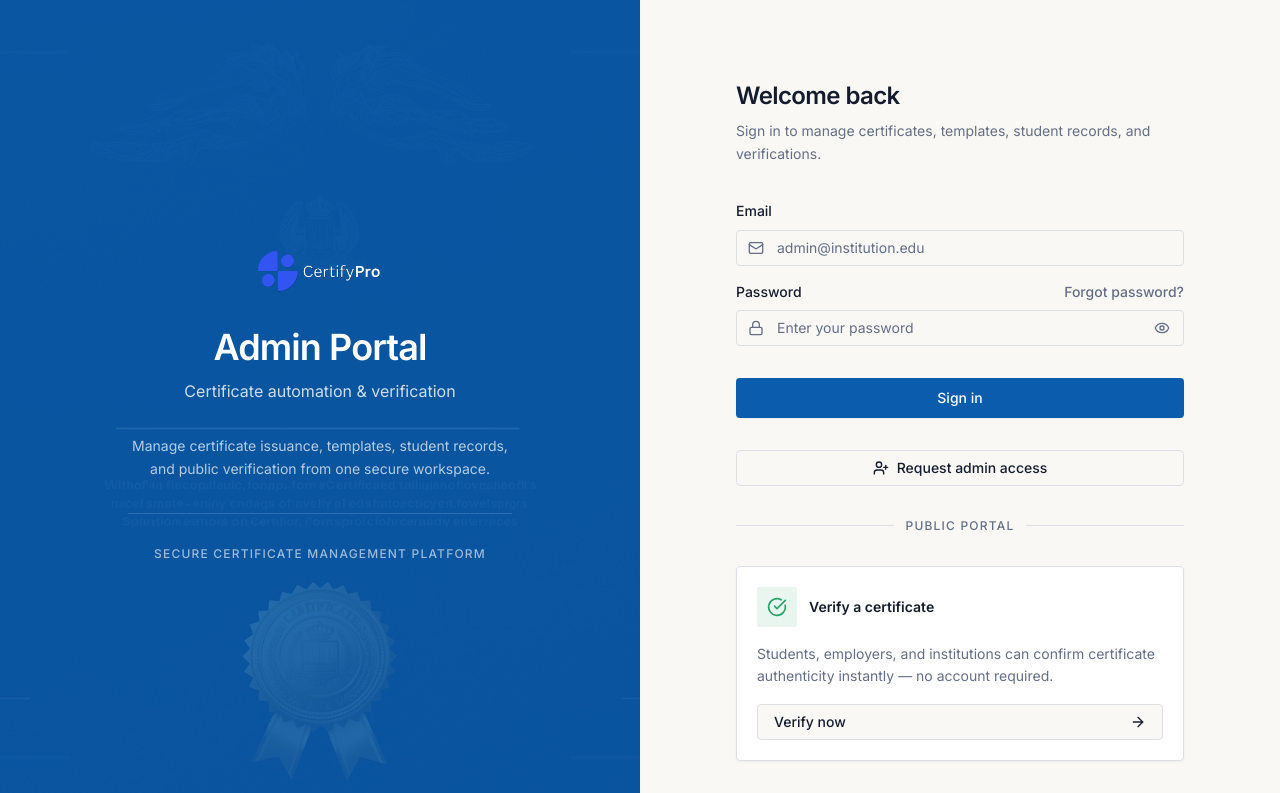
Scenario: Login captcha wiring › passes the token on submit and resets the widget after failure
In the field with placeholder "admin@institution.edu": {"x": 960, "y": 248} [736,230,1184,266], type "admin@x.edu"
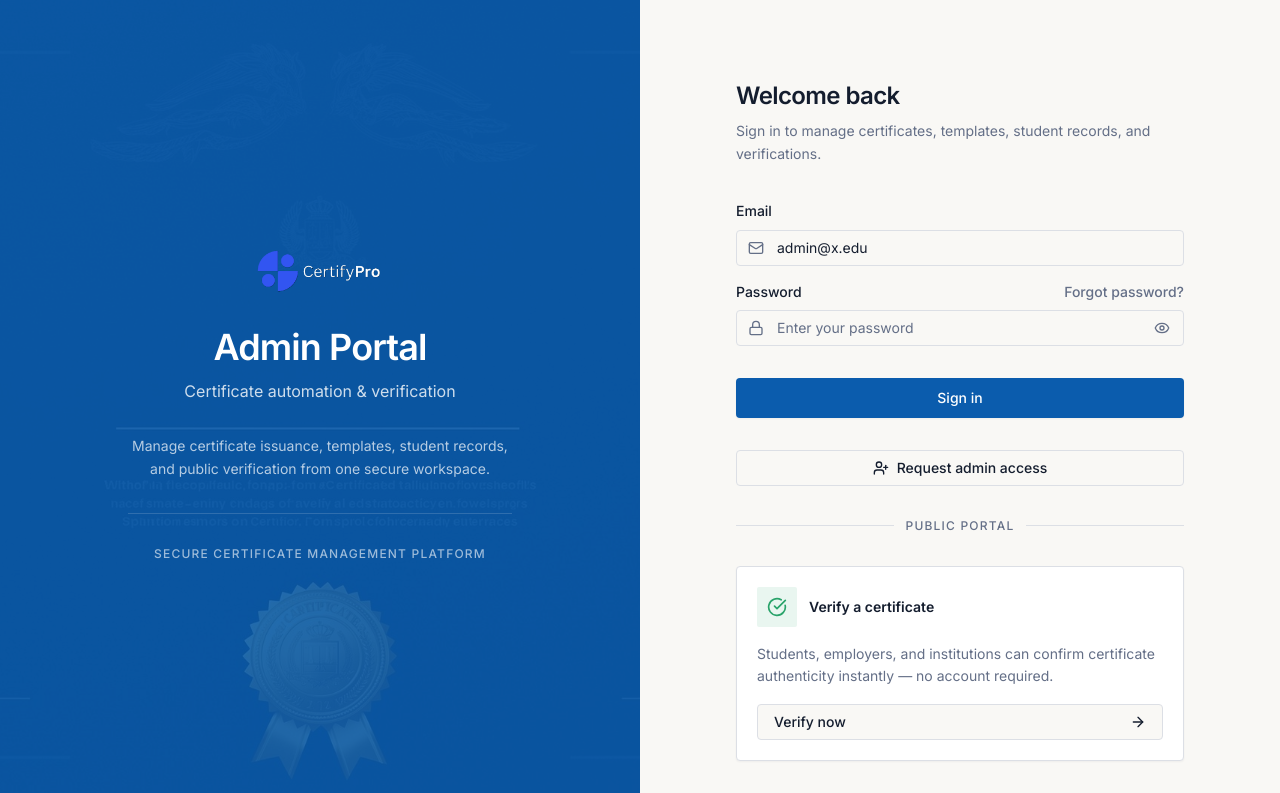
In the password field with placeholder "Enter your password": {"x": 960, "y": 328} [736,310,1184,346], type "wrong"
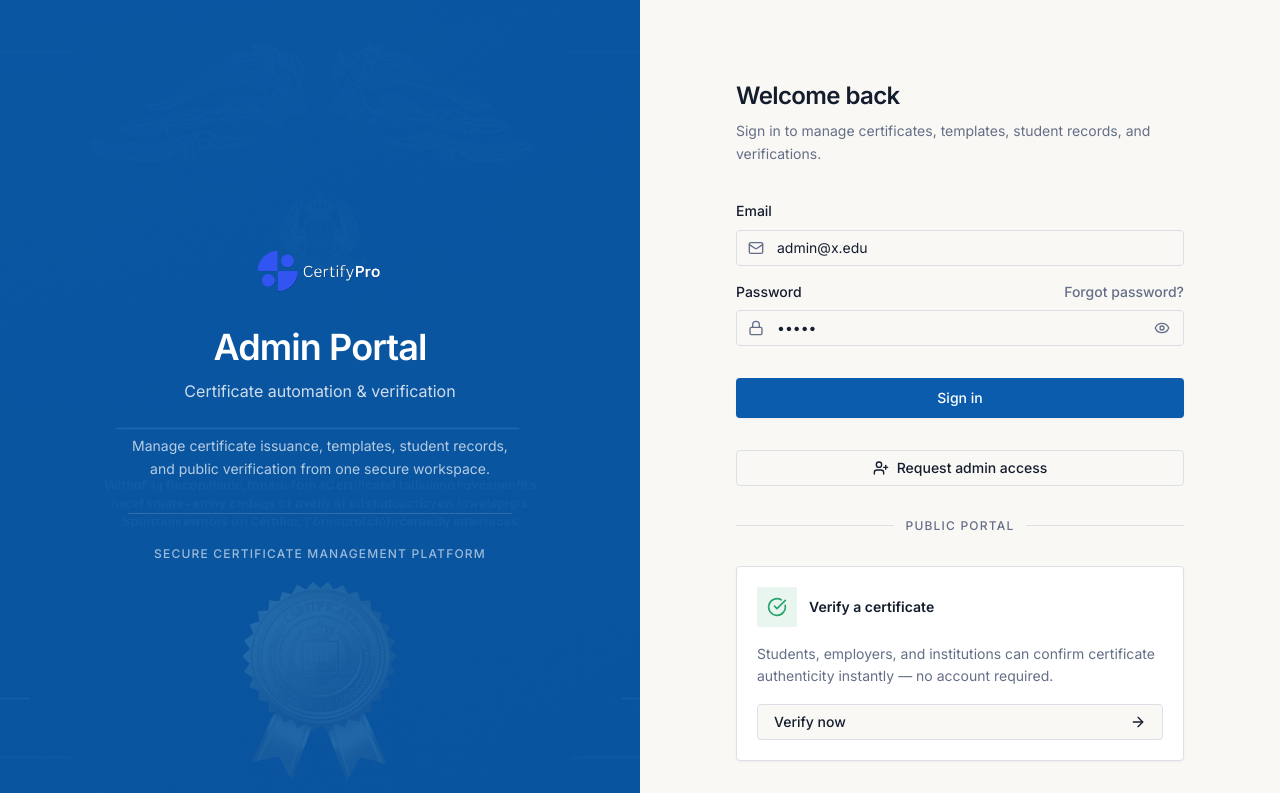
Click the button "Sign in": {"x": 960, "y": 398} [736,378,1184,418]
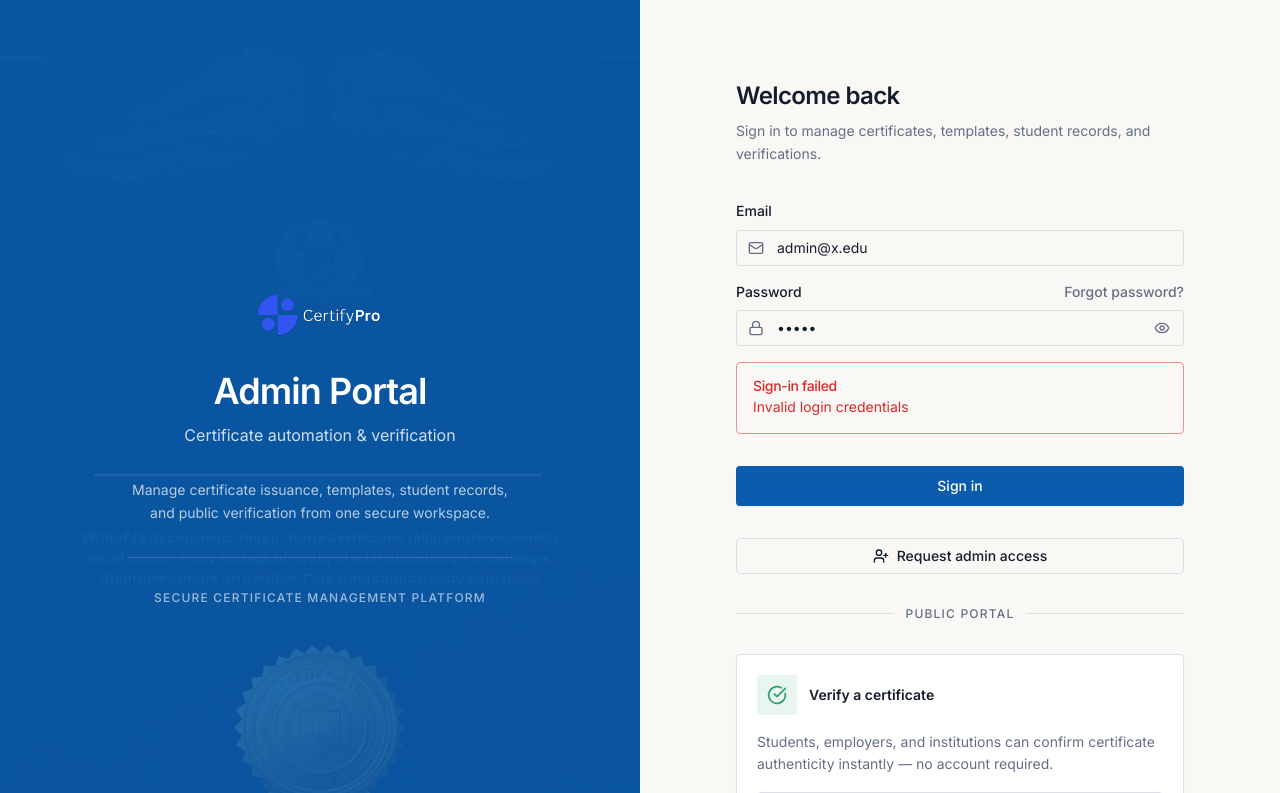
Expected: the text "Invalid login credentials" is shown, [753,398,909,414]
